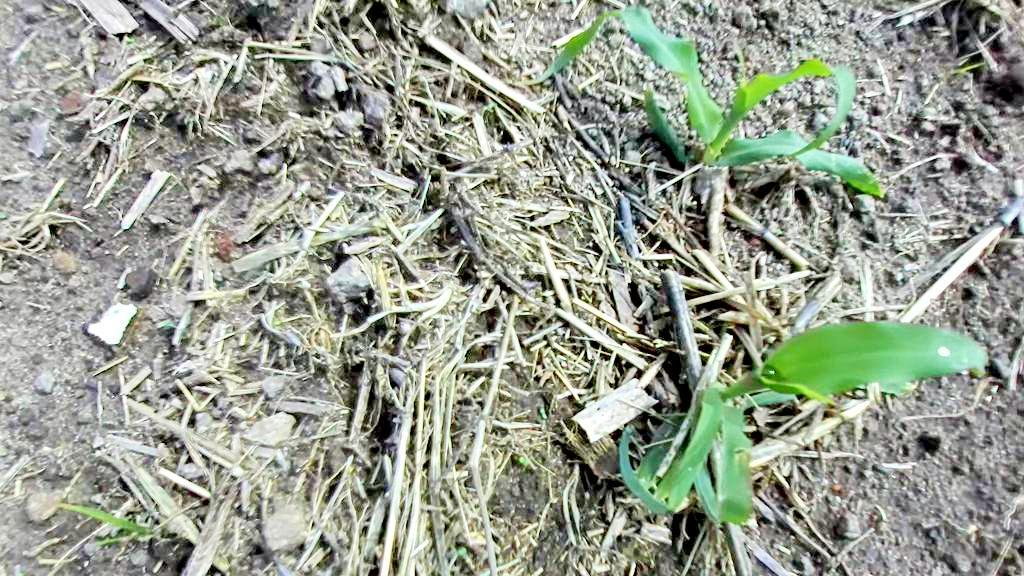BroWeed: (947, 60, 986, 77), (209, 553, 234, 576), (375, 363, 385, 407), (205, 12, 230, 29), (155, 317, 177, 333), (471, 15, 483, 38), (481, 100, 495, 116), (347, 463, 363, 474), (538, 405, 549, 421), (989, 383, 1001, 395), (124, 32, 135, 44), (517, 456, 530, 466), (457, 546, 467, 556), (273, 319, 282, 325)
Maize: (602, 256, 1003, 565)
NarWeed: (56, 470, 154, 568)
